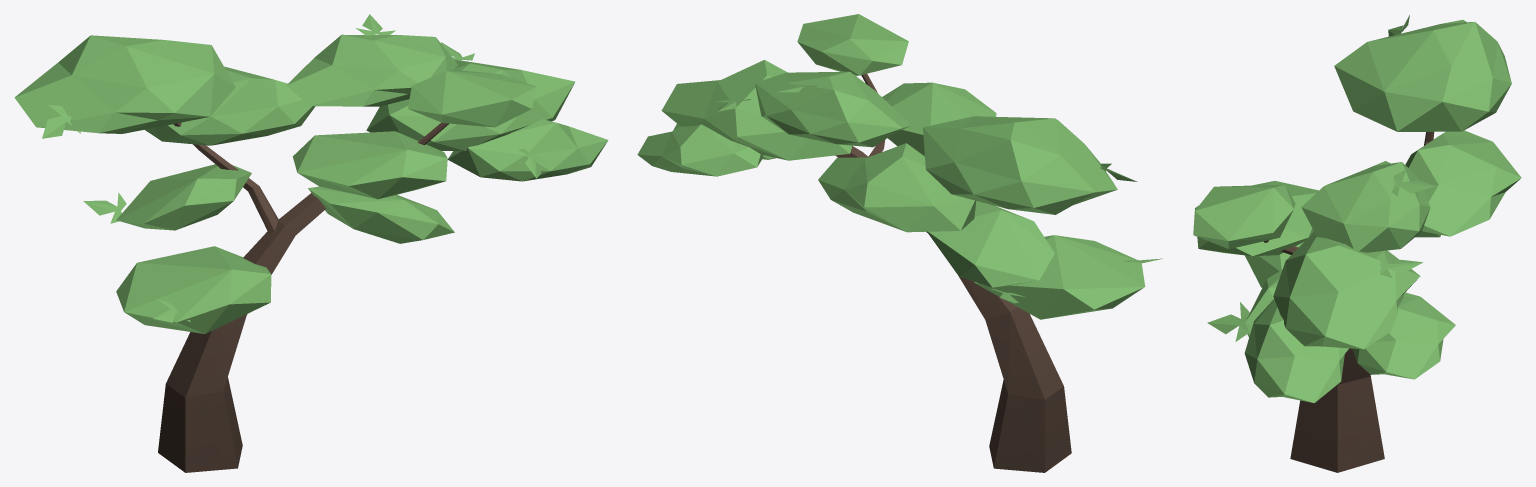
The model's file is bonsai.fbx.
The picture shows the model from 3 angles, left to right: view 1: azimuth 30°, elevation 25°; view 2: azimuth 150°, elevation 25°; view 3: azimuth 270°, elevation 25°; orthographic projection. The views are drawn at different scales.
Parts seen in each view (by area): view 1: bonsai; view 2: bonsai; view 3: bonsai.
Part boxes in pixels (box(x1,y1,x2,y2)): bonsai: box(14, 14, 608, 472); bonsai: box(637, 14, 1162, 472); bonsai: box(1193, 15, 1521, 472).
Bounding box in the file's own units: 6.28 × 4.45 × 3.26.
Materials: 1 (1 with a texture image).
